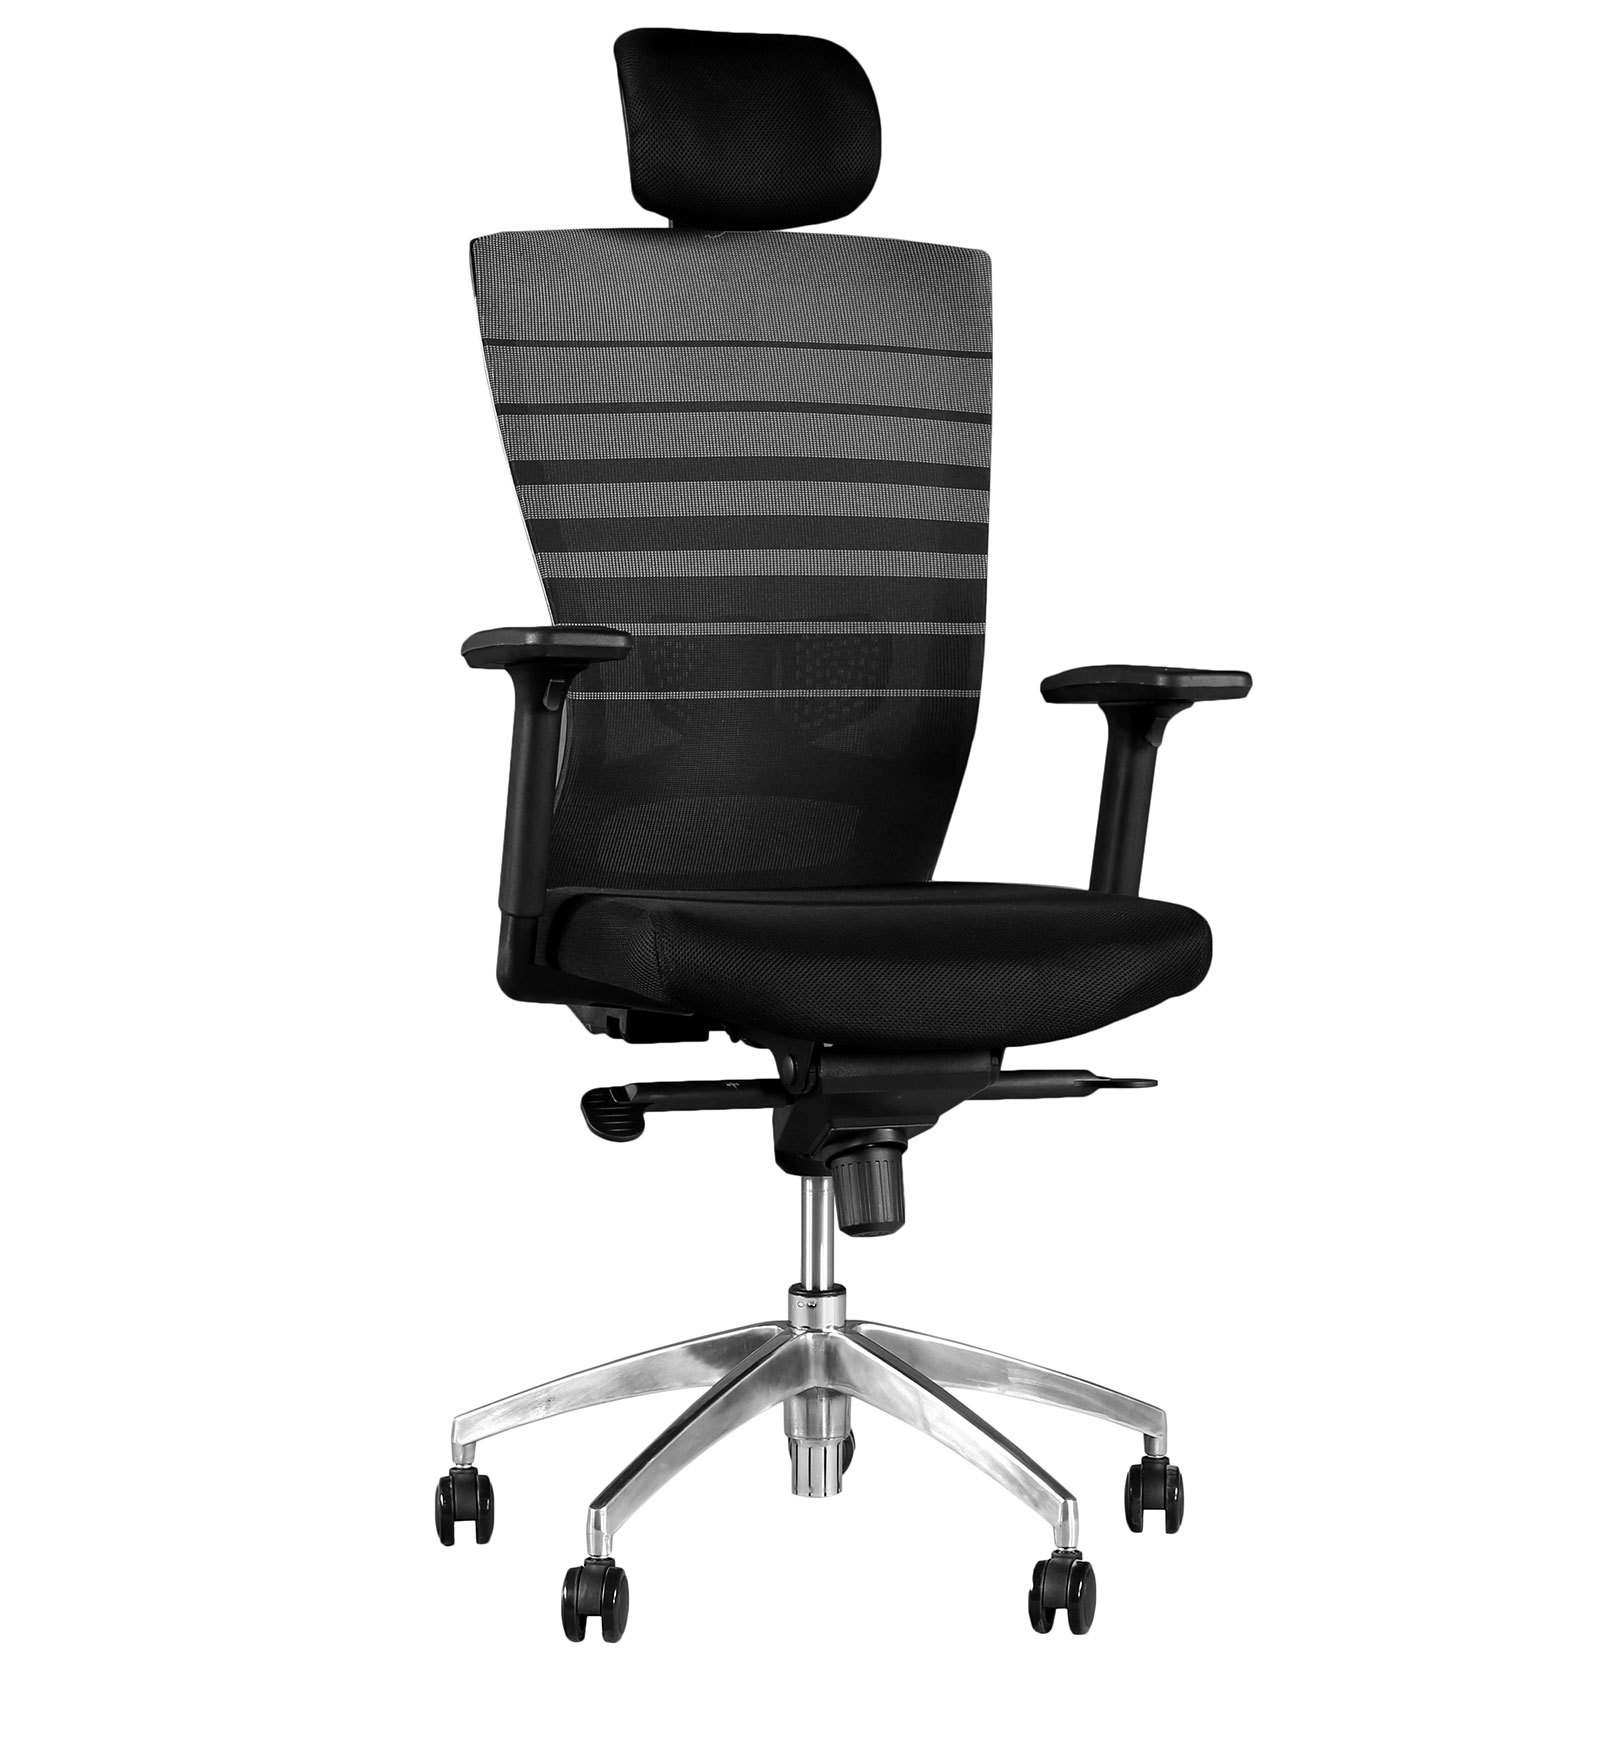Ergo High Back Ergonomic Chair in Black Colour by HomeTown: (425, 15, 1270, 1688)
